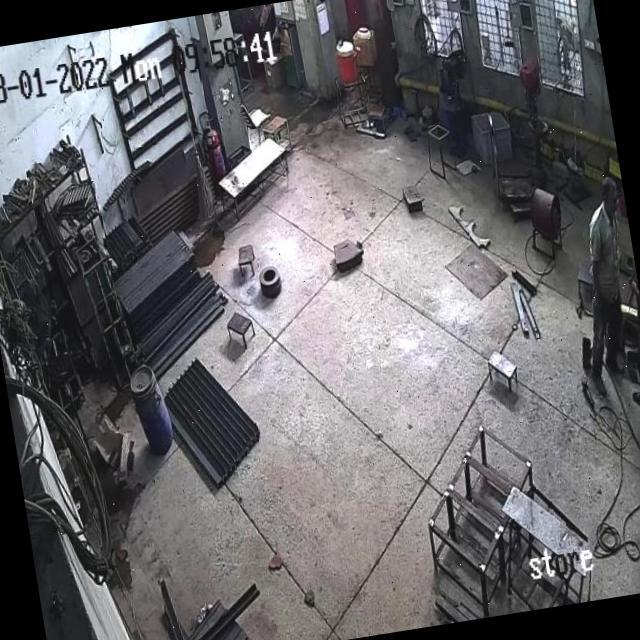person: (567, 191, 640, 383), (614, 220, 640, 400)
